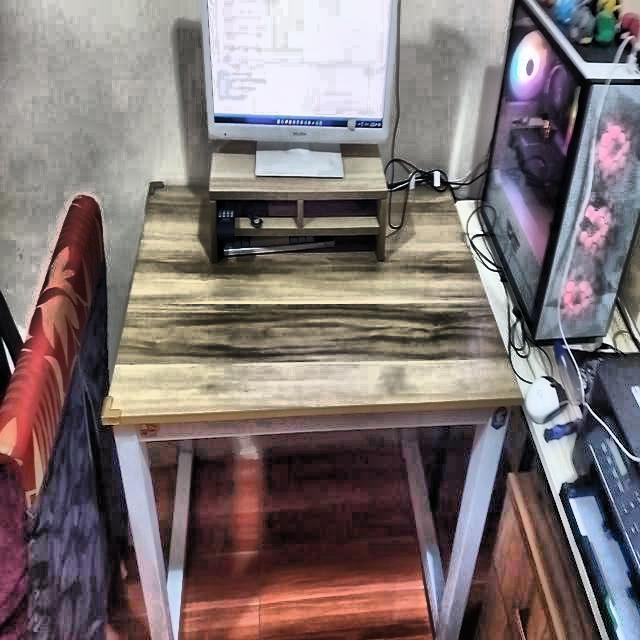mesa: (96, 170, 525, 640)
